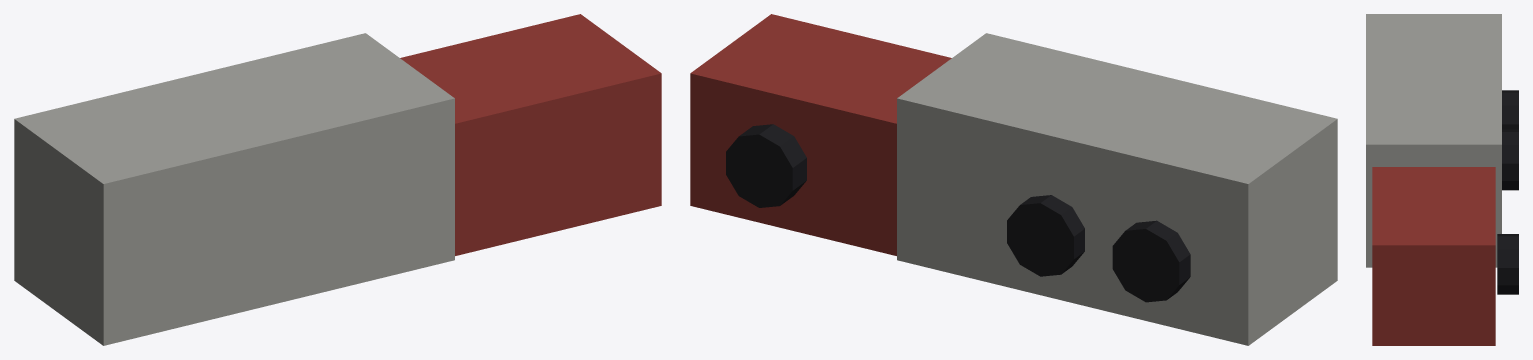
Rendered from overturned_truck.glb.
3 views of the same model, side by side, from view 1: azimuth 30°, elevation 25°; view 2: azimuth 150°, elevation 25°; view 3: azimuth 270°, elevation 25° (orthographic). The views are drawn at different scales.
Parts seen in each view (by area): view 1: overturned_truck; view 2: overturned_truck; view 3: overturned_truck.
Boxes of the visible parts, x1=… form: overturned_truck: x1=14, y1=14, x2=661, y2=345; overturned_truck: x1=690, y1=14, x2=1337, y2=345; overturned_truck: x1=1366, y1=14, x2=1518, y2=345.
Size of the model in its own units: 8 by 2.2 by 2.48.
